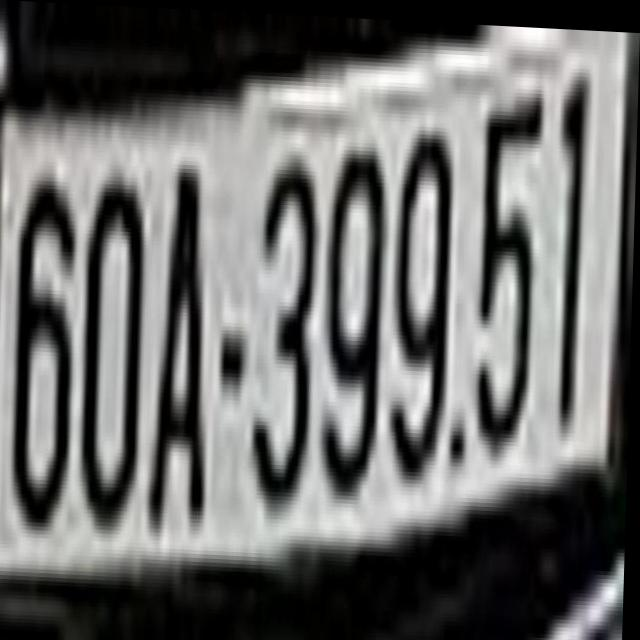0: (82, 167, 149, 530)
1: (551, 57, 591, 432)
3: (254, 150, 317, 498)
5: (475, 74, 545, 453)
6: (11, 179, 79, 539)
9: (322, 130, 383, 485), (392, 125, 452, 469)
A: (150, 158, 216, 521)
